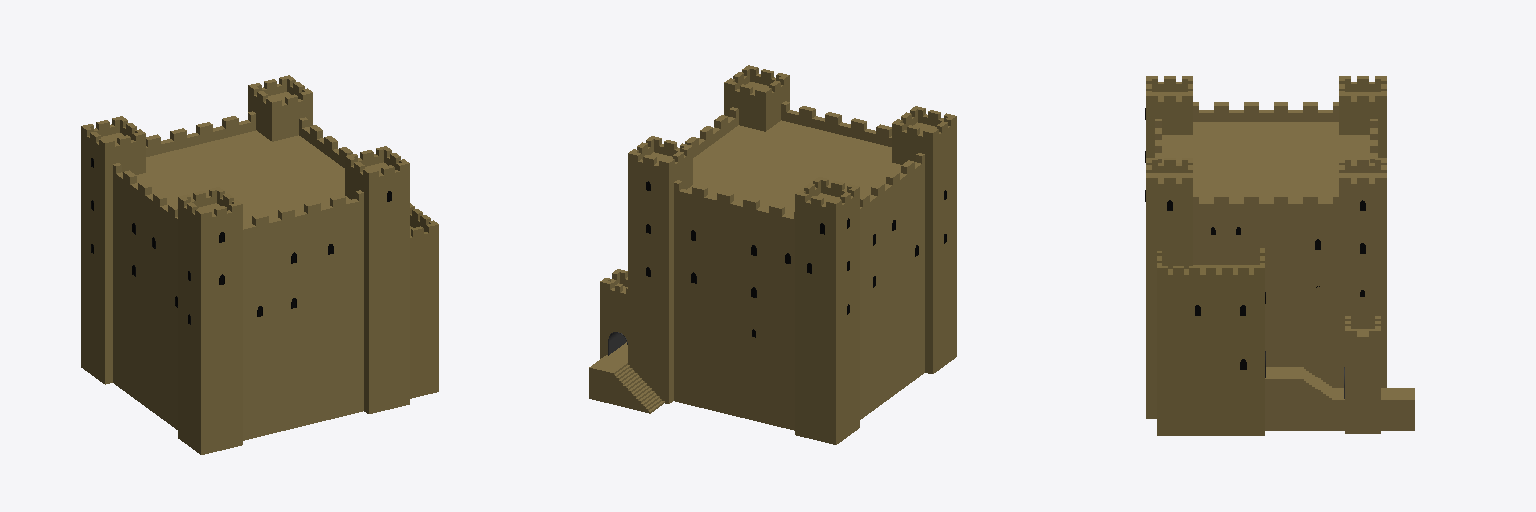
The model's file is keep_east.obj.
The picture shows the model from 3 angles: view 1: azimuth 30°, elevation 25°; view 2: azimuth 150°, elevation 25°; view 3: azimuth 270°, elevation 25°; orthographic projection.
Visible parts, largest first — view 1: Keep_Untitled; view 2: Keep_Untitled; view 3: Keep_Untitled.
Boxes of the visible parts, box(x1,y1,x2,y2) form: Keep_Untitled: box(81, 75, 438, 454); Keep_Untitled: box(589, 65, 956, 444); Keep_Untitled: box(1145, 76, 1414, 435).
Bounding box in the file's own units: 27.88 × 26.27 × 26.64.